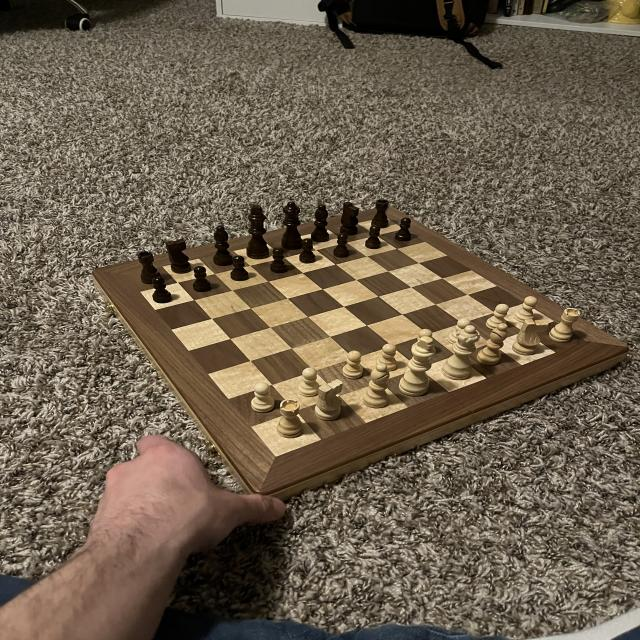bishop: (210, 224, 236, 267), (309, 201, 330, 244)
black-bishop: (244, 200, 270, 262)
black-king: (163, 237, 193, 274), (338, 200, 362, 238)
black-knight: (148, 276, 174, 304), (189, 264, 214, 292), (227, 254, 251, 283), (329, 232, 353, 259), (392, 216, 415, 244), (295, 237, 318, 265), (363, 224, 383, 251), (269, 246, 288, 274)
black-pawn: (278, 199, 304, 253)
black-queen: (134, 250, 165, 286), (370, 198, 391, 229)
black-rook: (478, 322, 512, 368), (361, 364, 393, 411)
white-bishop: (398, 336, 439, 398)
white-king: (512, 318, 550, 357), (313, 378, 346, 422)
white-knight: (512, 295, 540, 324), (250, 381, 274, 413), (485, 303, 512, 331), (411, 328, 436, 358), (298, 366, 322, 397), (448, 317, 474, 345), (375, 342, 399, 372), (341, 349, 363, 380)
white-pawn: (441, 325, 481, 382)
white-queen: (547, 305, 585, 346), (273, 399, 307, 439)
